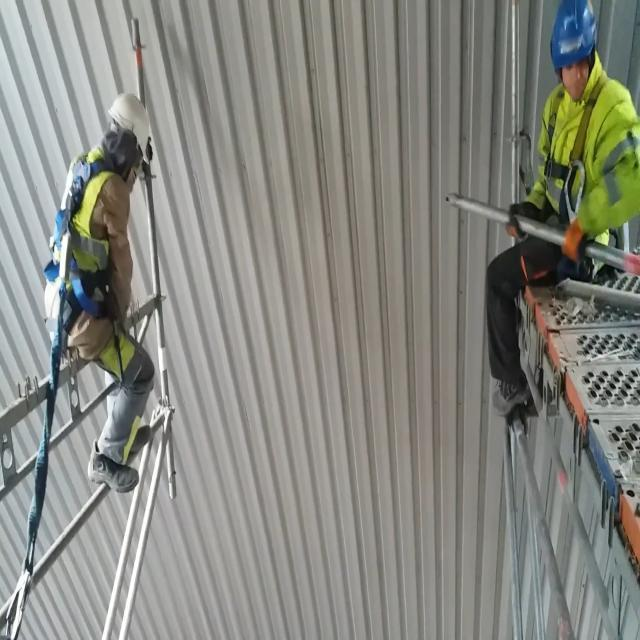belt: (38, 139, 128, 344), (538, 56, 622, 269)
